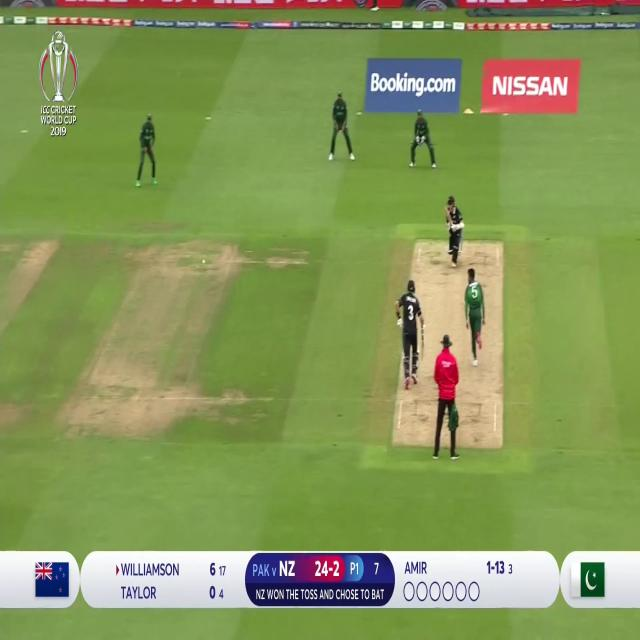bat: (443, 204, 452, 225), (422, 325, 424, 360)
